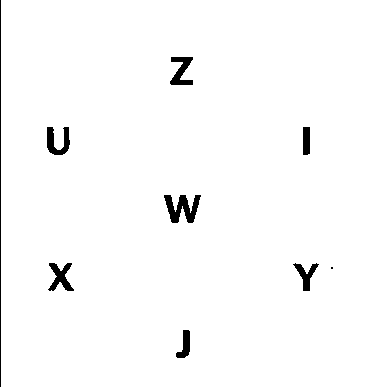I: (298, 121, 318, 167)
U: (43, 123, 76, 161)
